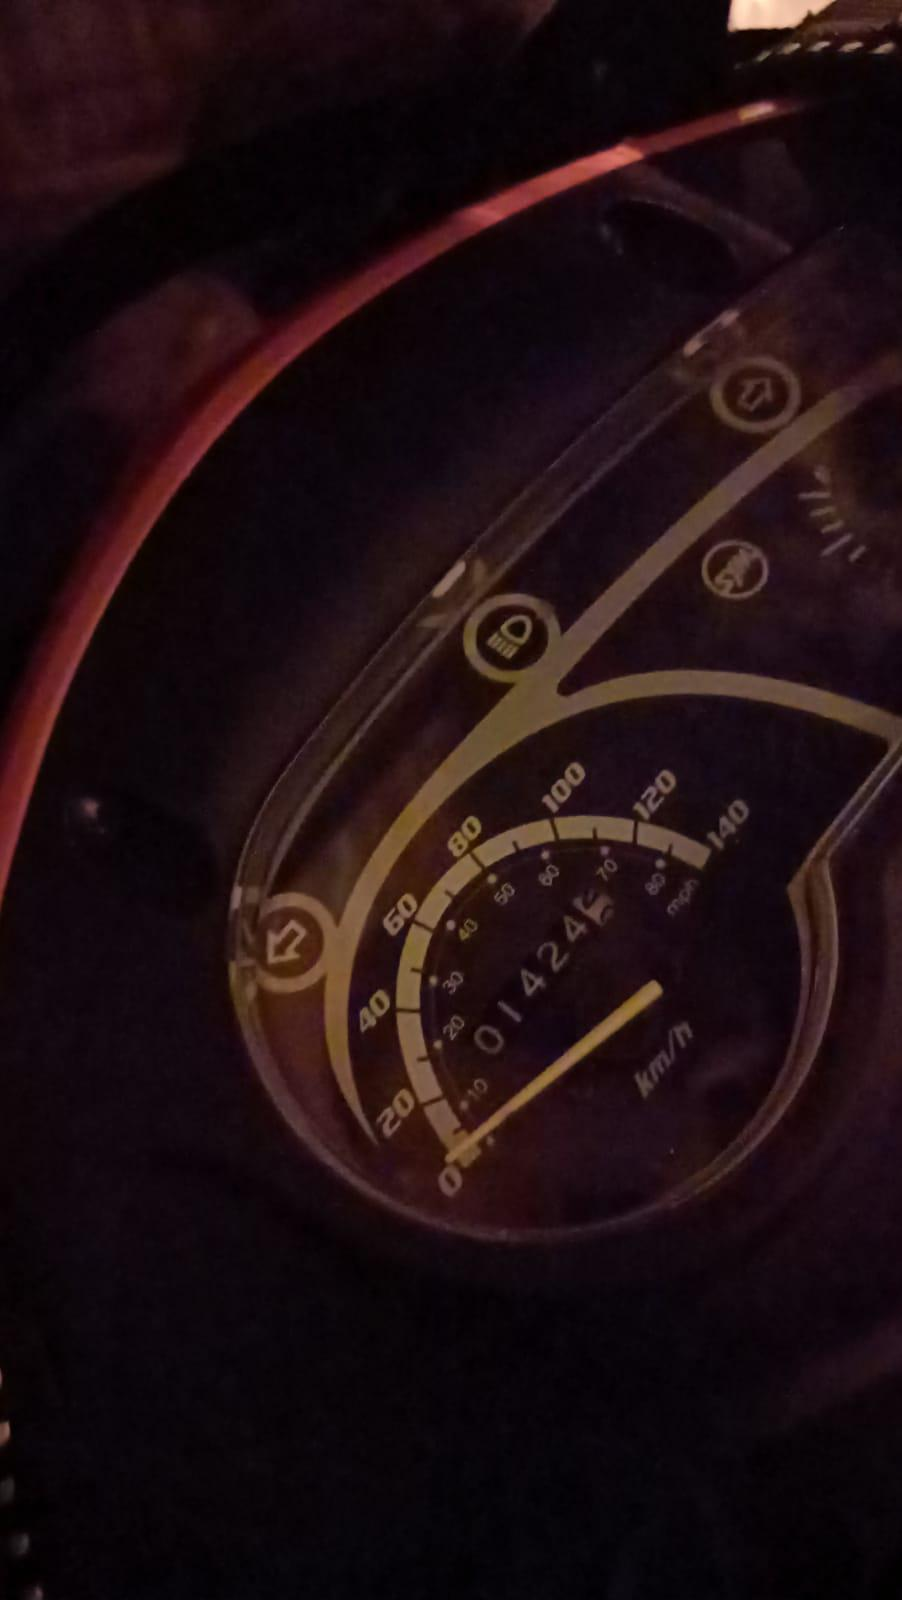0: (471, 1024, 504, 1055), (465, 916, 480, 931), (501, 882, 517, 895)
1: (492, 998, 528, 1027)
2: (535, 938, 571, 971), (571, 881, 601, 910)
4: (517, 966, 550, 997), (560, 912, 592, 942)
5: (491, 890, 508, 904)
odometer: (466, 880, 624, 1063)
